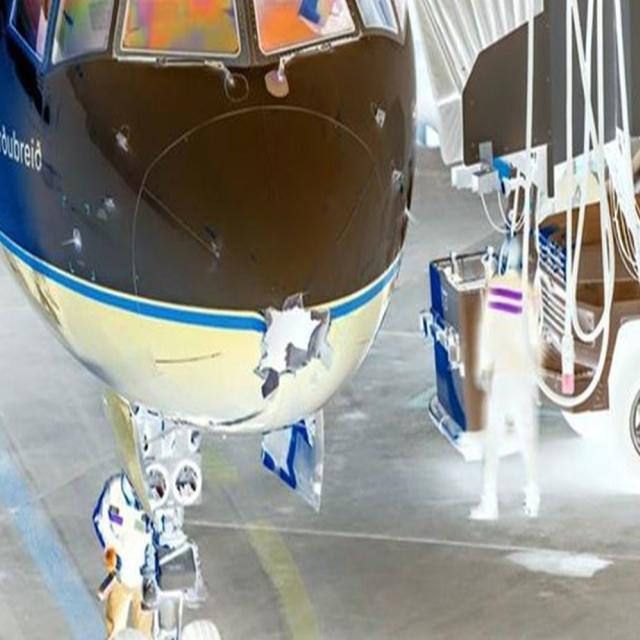crack: (246, 290, 336, 402)
